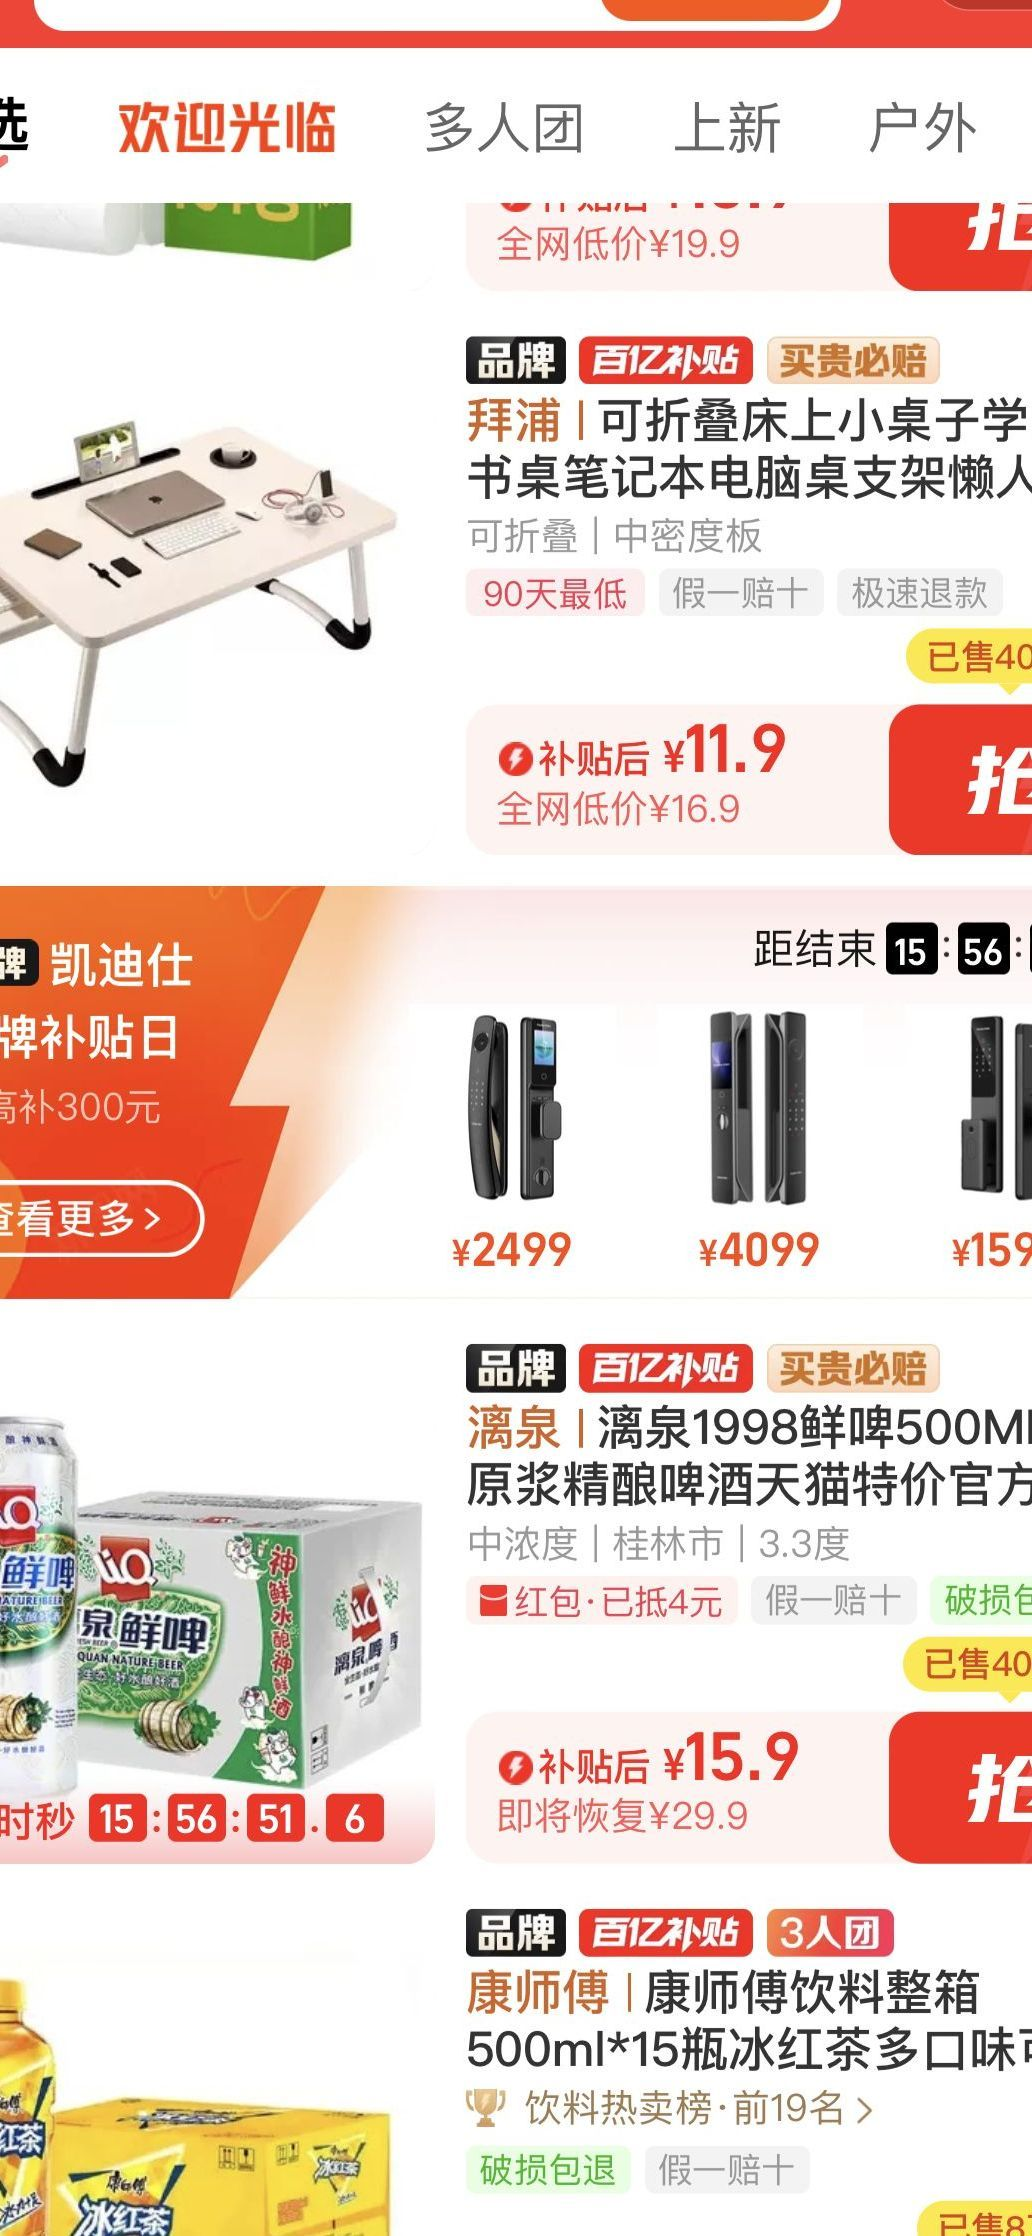banner: (7, 881, 1029, 1340)
item: (7, 312, 1031, 864), (1, 1353, 1029, 1884)
